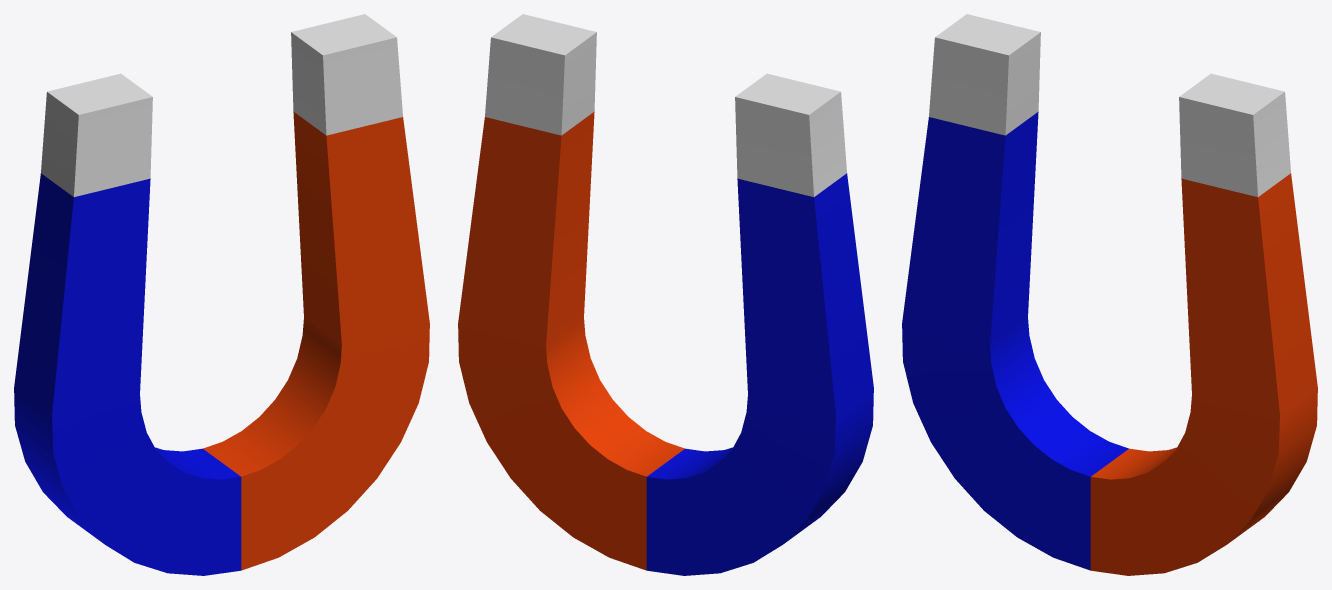
Rendered from magnet.fbx.
The picture shows the model from 3 angles, left to right: view 1: azimuth 30°, elevation 25°; view 2: azimuth 150°, elevation 25°; view 3: azimuth 330°, elevation 25°; orthographic projection.
Visible parts, largest first — view 1: Circle; view 2: Circle; view 3: Circle.
Boxes of the visible parts, <box> form: Circle: <box>14,14,429,575</box>; Circle: <box>458,14,873,575</box>; Circle: <box>902,14,1317,575</box>.
Bounding box in the file's own units: 555 × 691 × 97.85.
